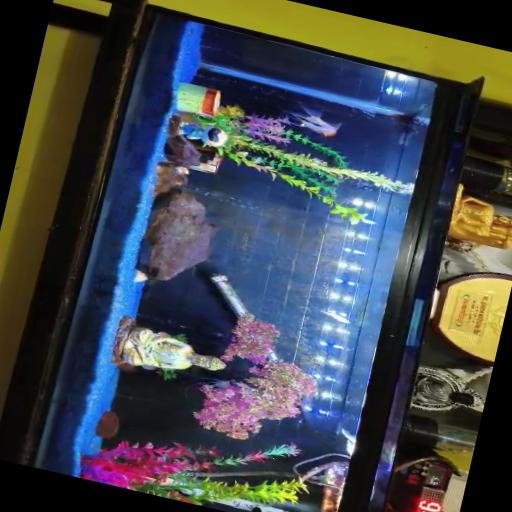Fish: (287, 106, 340, 136)
